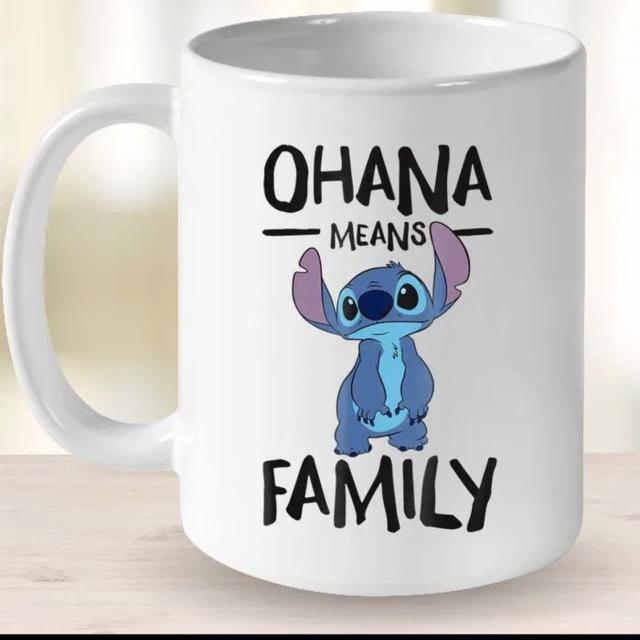cup: (11, 21, 610, 594)
